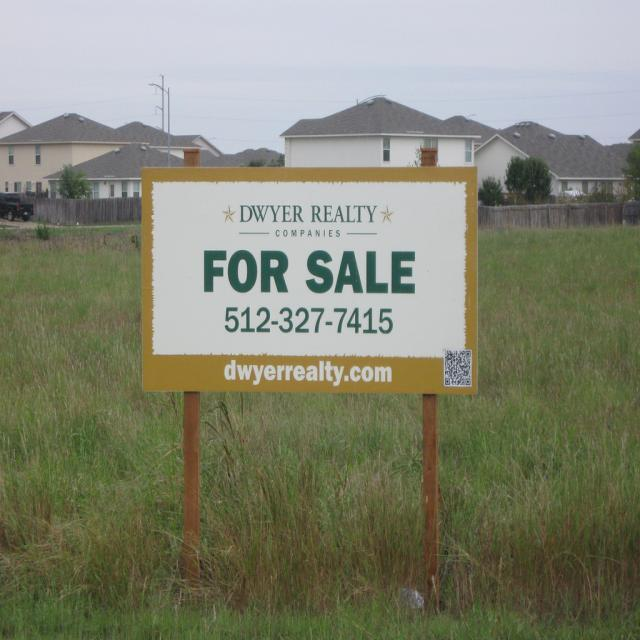qr-code: (445, 350, 470, 384)
